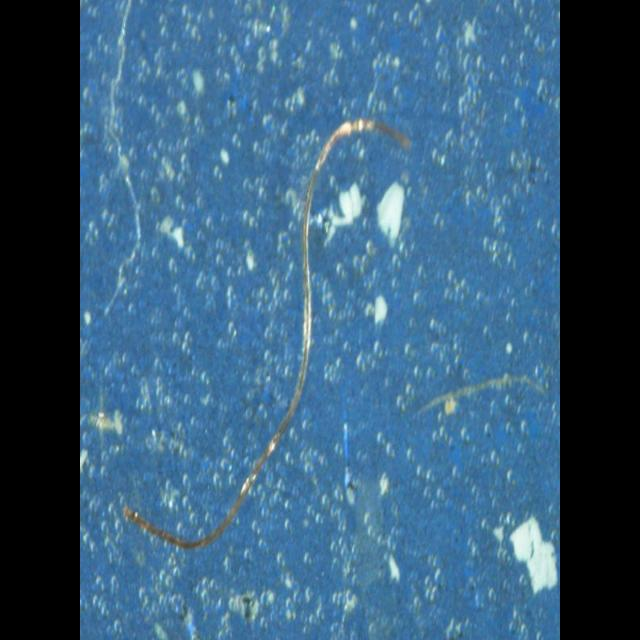Fibre: (122, 114, 412, 550)
